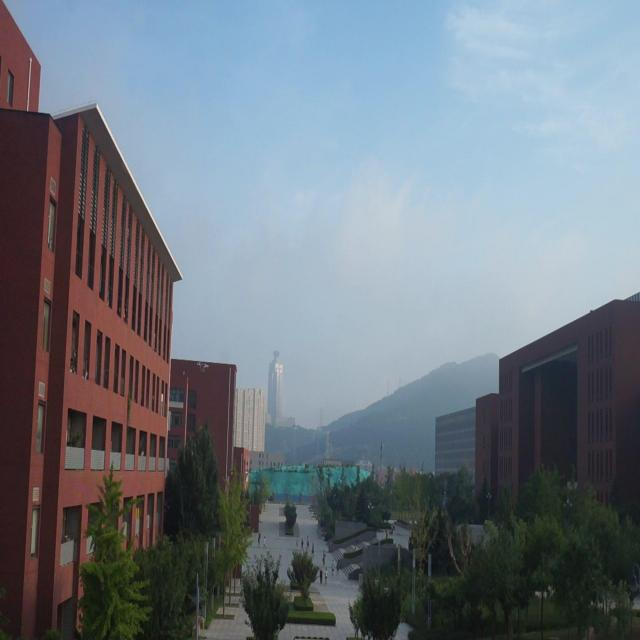UAV: (197, 362, 209, 372)
